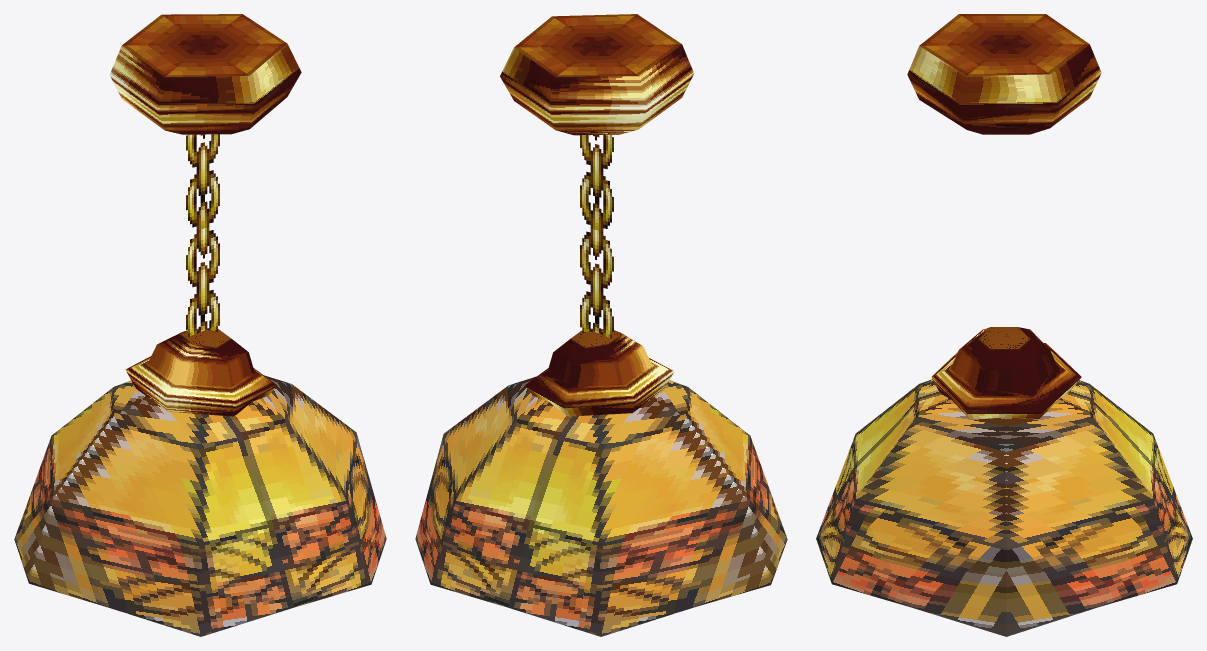
Rendered from syan24.glb.
The picture shows the model from 3 angles, left to right: view 1: azimuth 30°, elevation 25°; view 2: azimuth 150°, elevation 25°; view 3: azimuth 270°, elevation 25°; orthographic projection.
Visible parts, largest first — view 1: syan24; view 2: syan24; view 3: syan24.
Part boxes in pixels (left/top/right/bottom): syan24: left=14, top=14, right=386, bottom=636; syan24: left=415, top=14, right=787, bottom=636; syan24: left=816, top=14, right=1192, bottom=636.
Bounding box in the file's own units: 100 × 142 × 95.
Materials: 4 (4 with a texture image).
